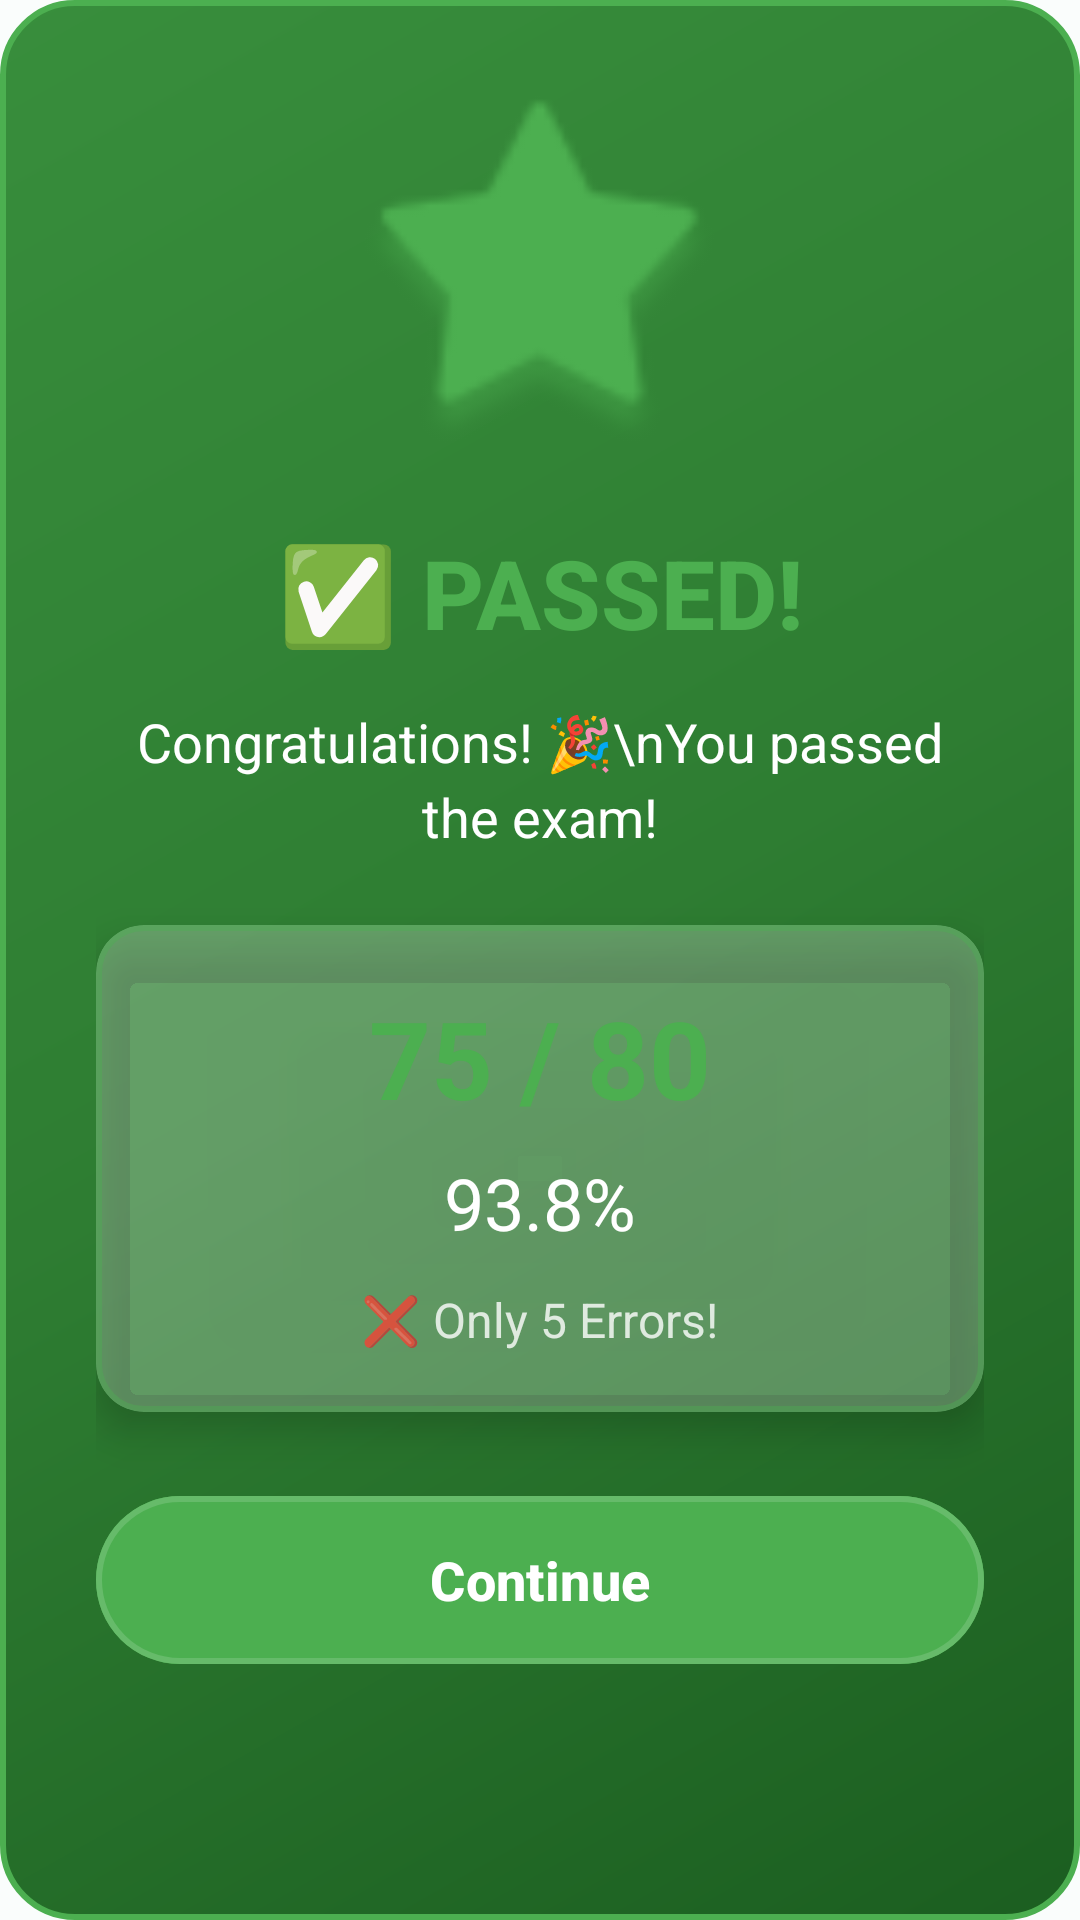

Screen size 1080×1920. Icon name, then its center in pixels as [x,y]:
star on: [539,253]
